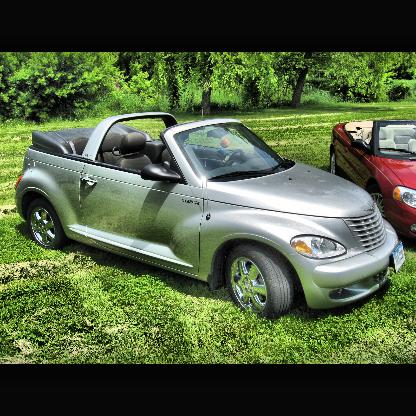Chrysler PT Cruiser Convertible 2008: (6, 99, 412, 334)
